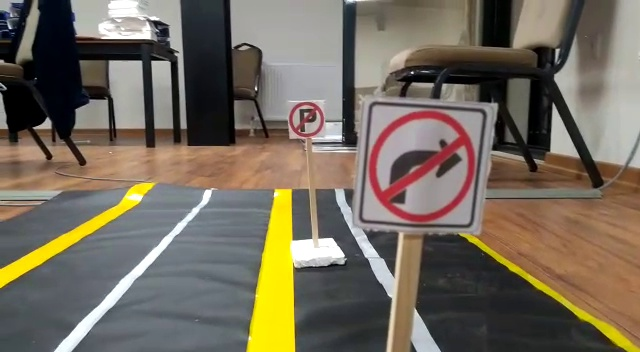park_yapilmaz: (288, 98, 325, 138)
saga_donulmez: (356, 104, 480, 229)
